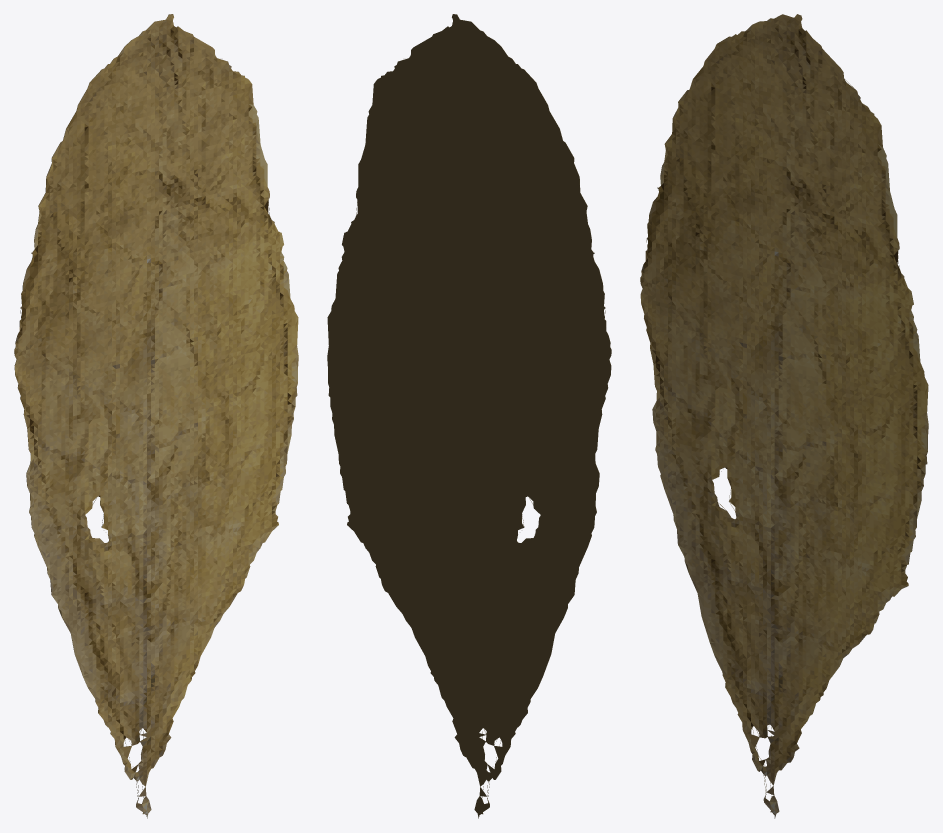
File: 20260911_160917418_iOS.obj
3 views of the same model, side by side, from view 1: azimuth 30°, elevation 25°; view 2: azimuth 150°, elevation 25°; view 3: azimuth 330°, elevation 25° (orthographic).
Parts seen in each view (by area): view 1: 20260911_160917418_iOS; view 2: 20260911_160917418_iOS; view 3: 20260911_160917418_iOS.
Part boxes in pixels (bbox=[...]): 20260911_160917418_iOS: bbox=[14, 14, 298, 818]; 20260911_160917418_iOS: bbox=[327, 14, 611, 818]; 20260911_160917418_iOS: bbox=[640, 14, 928, 818].
Bounding box in the file's own units: 219 × 587 × 0.3.
